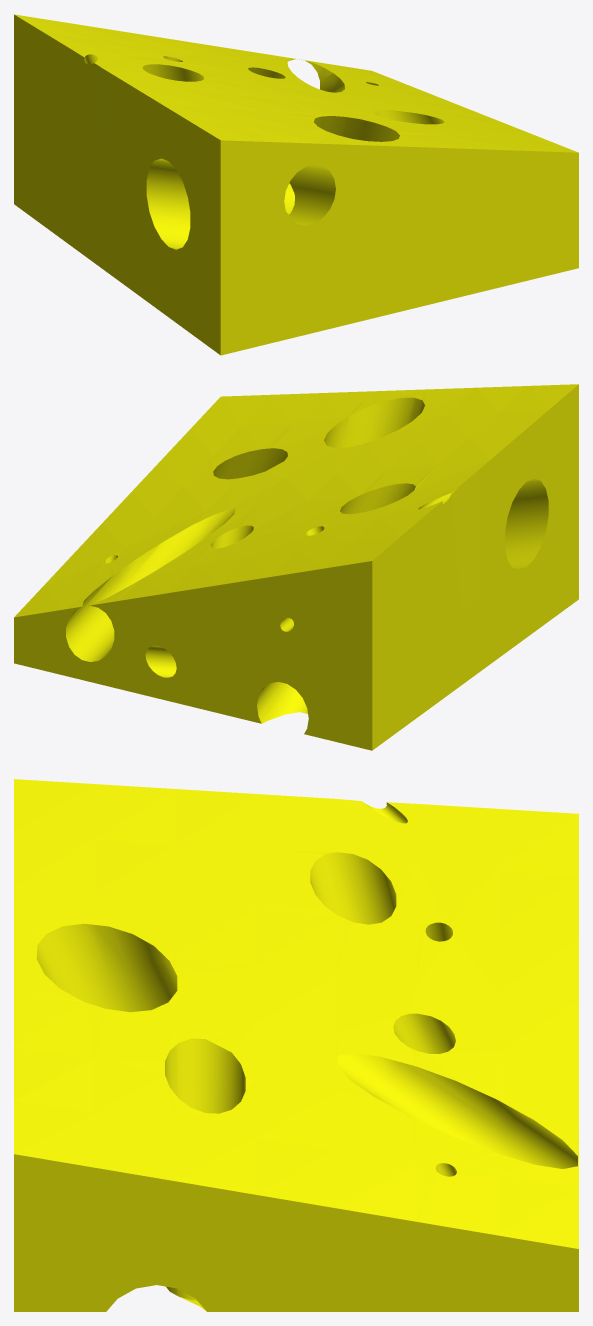
The model's file is Collectible_Cheese.FBX.
3 views of the same model, one above another, from view 1: azimuth 30°, elevation 25°; view 2: azimuth 150°, elevation 25°; view 3: azimuth 270°, elevation 25° (orthographic). The views are drawn at different scales.
Parts seen in each view (by area): view 1: Cheese_Collectible; view 2: Cheese_Collectible; view 3: Cheese_Collectible.
Part boxes in pixels (box(x1,y1,x2,y2)): Cheese_Collectible: box(14, 14, 578, 355); Cheese_Collectible: box(14, 384, 578, 750); Cheese_Collectible: box(14, 779, 578, 1311).
Size of the model in its own units: 7.79 by 4.48 by 7.79.
1 material, 1 textured.
